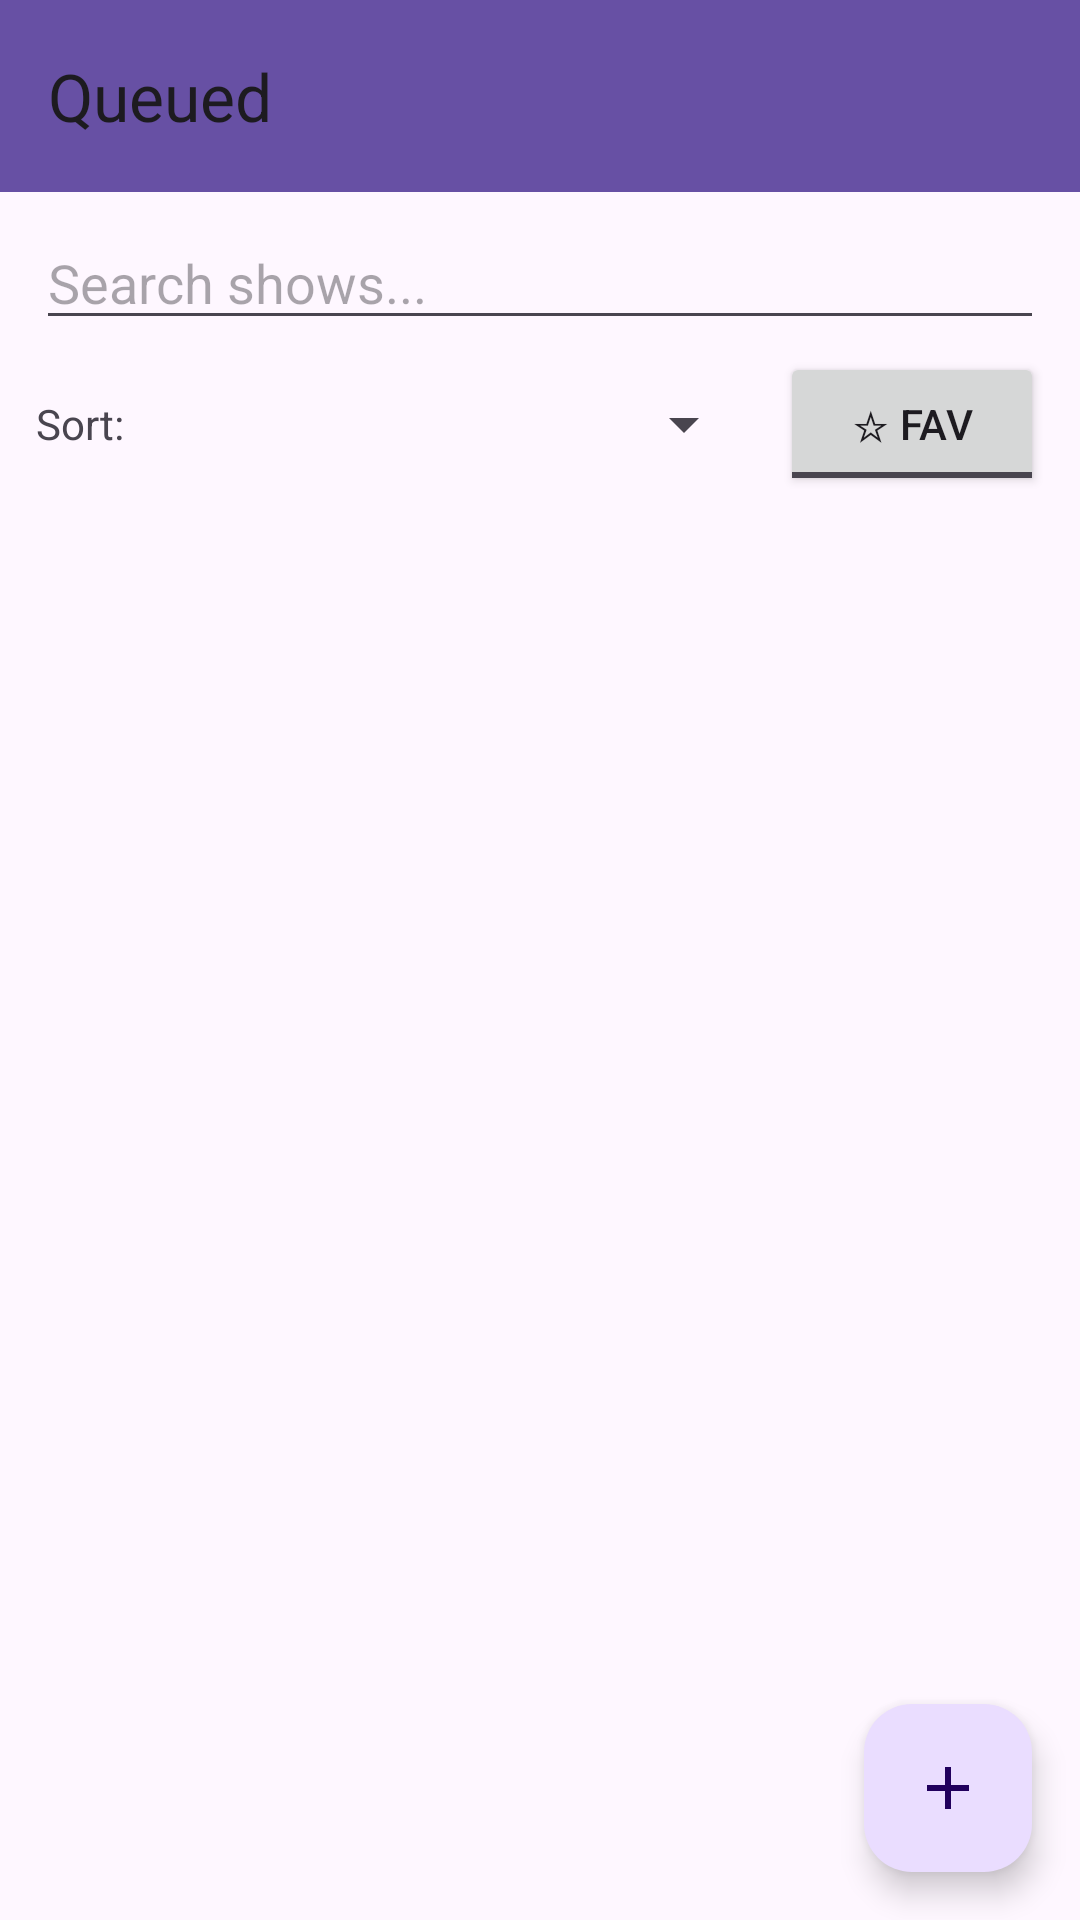

Icons on this 1080*1920 Android screen, each with its box as {"x1": x1, "y1": y1, "x2": x2, "y2": y2}:
An add button: {"x1": 864, "y1": 1704, "x2": 1032, "y2": 1872}
